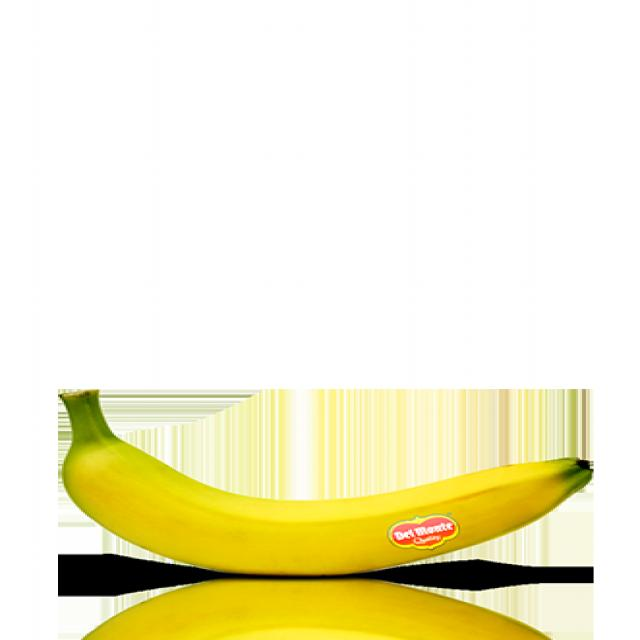banana: (54, 382, 604, 578)
